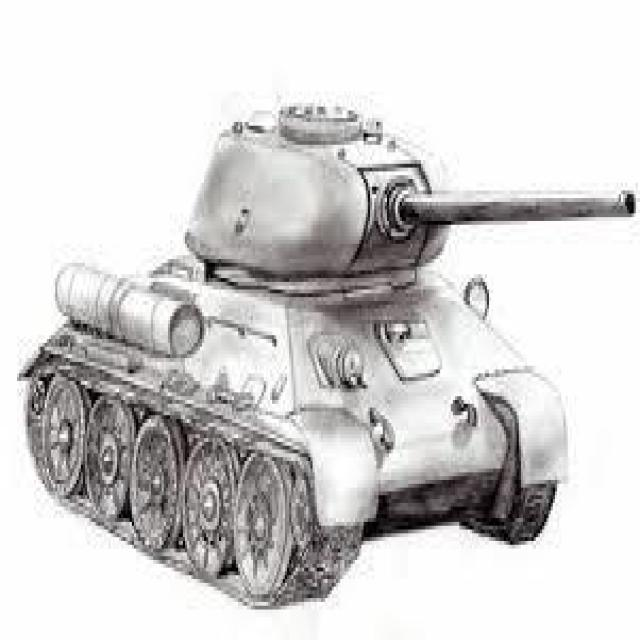Tanks: (19, 86, 634, 600)
